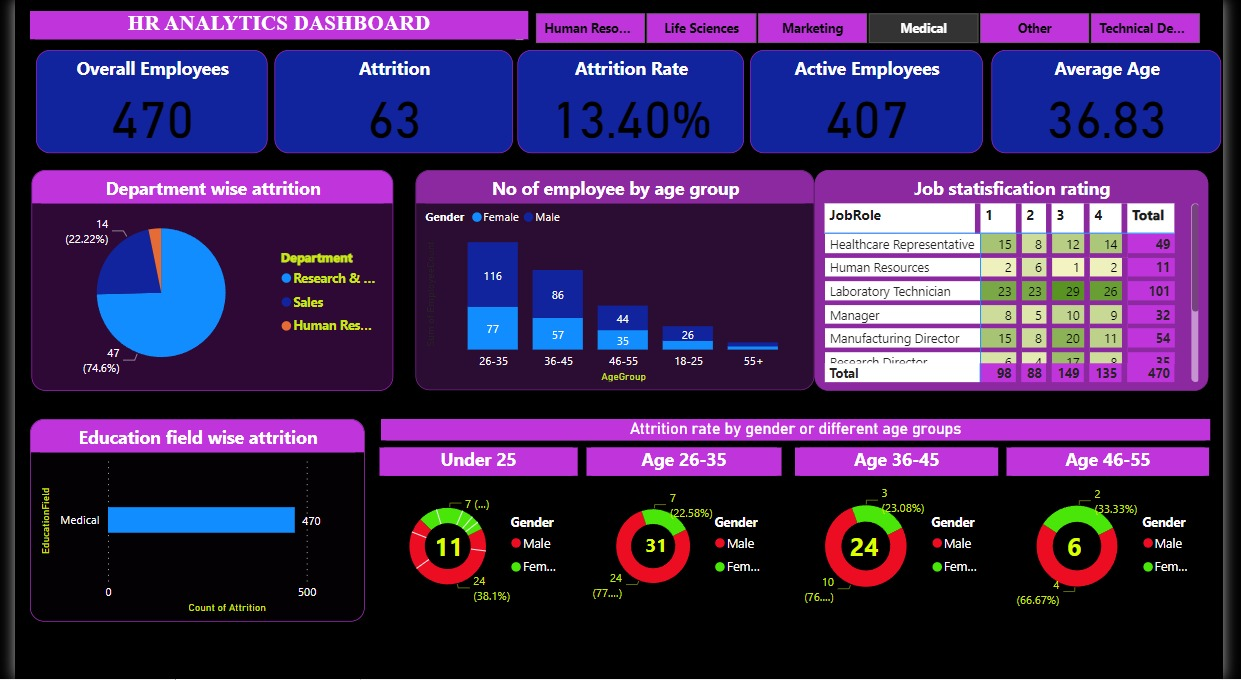

Layout of this report page (visuals, bound fields, positions):
{"tool":"powerbi","page":{"name":"HR_ANALYTICS","canvas":[1280,720],"ordinal":0},"visuals":[{"type":"card","title":"Overall Employees","fields":{"Values":["Sum(HR_Analytics.EmployeeCount)"]},"box":[21.6,53.6,245.4,109.3],"z":0},{"type":"card","title":"Attrition","fields":{"Values":["Sum(HR_Analytics.Attrition count)"]},"box":[274.2,53.6,252.6,109.3],"z":1000},{"type":"card","title":"Attrition Rate","fields":{"Values":["HR_Analytics.attrition rate"]},"box":[532,53.6,240.2,109.3],"z":2000},{"type":"card","title":"Active Employees","fields":{"Values":["HR_Analytics.Active employees"]},"box":[779.4,53.6,246.4,109.3],"z":3000},{"type":"card","title":"Average Age","fields":{"Values":["Avg(HR_Analytics.Age)"]},"box":[1034,53.6,243.3,109.3],"z":4000},{"type":"pieChart","title":"Department wise attrition","fields":{"Category":["HR_Analytics.Department"],"Y":["Sum(HR_Analytics.Attrition count)"]},"box":[17.5,180.4,383.5,234],"z":5000},{"type":"columnChart","title":"No of employee by age group","fields":{"Category":["HR_Analytics.AgeGroup"],"Y":["Sum(HR_Analytics.EmployeeCount)"],"Series":["HR_Analytics.Gender"]},"box":[424.4,181.2,422.8,233.6],"z":6000},{"type":"pivotTable","title":"Job statisfication rating","fields":{"Rows":["HR_Analytics.JobRole"],"Columns":["HR_Analytics.JobSatisfaction"],"Values":["Sum(HR_Analytics.EmployeeCount)"]},"box":[847.4,180.4,417.5,234],"z":7000},{"type":"barChart","title":"Education field wise attrition","fields":{"Category":["HR_Analytics.EducationField"],"Y":["CountNonNull(HR_Analytics.Attrition)"]},"box":[15.5,444.3,354.6,214.4],"z":8000},{"type":"donutChart","title":"Under 25","fields":{"Category":["HR_Analytics.Gender"],"Y":["Sum(HR_Analytics.Attrition count)"],"Series":["HR_Analytics.AgeGroup"]},"box":[386.9,475.4,209.8,183.6],"z":9000},{"type":"textbox","title":"Attrition rate by gender or different age groups","box":[387.6,444.3,878.4,22.7],"z":10000},{"type":"donutChart","title":"Age 26-35","fields":{"Category":["HR_Analytics.Gender"],"Y":["Sum(HR_Analytics.Attrition count)"],"Series":["HR_Analytics.AgeGroup"]},"box":[604.9,475.4,206.6,183.6],"z":11000},{"type":"donutChart","title":"Age 36-45","fields":{"Category":["HR_Analytics.Gender"],"Y":["Sum(HR_Analytics.Attrition count)"],"Series":["HR_Analytics.AgeGroup"]},"box":[825.8,475.3,215.5,183.5],"z":12000},{"type":"donutChart","title":"Age 46-55","fields":{"Category":["HR_Analytics.Gender"],"Y":["Sum(HR_Analytics.Attrition count)"],"Series":["HR_Analytics.AgeGroup"]},"box":[1050.8,475.4,214.8,183.6],"z":13000},{"type":"card","fields":{"Values":["Sum(HR_Analytics.Attrition count)"]},"box":[435.1,557.7,47.4,44.3],"z":14000},{"type":"card","fields":{"Values":["Sum(HR_Analytics.Attrition count)"]},"box":[650.5,562.9,57.7,34],"z":15000},{"type":"card","fields":{"Values":["Sum(HR_Analytics.Attrition count)"]},"box":[876.3,557.7,47.4,44.3],"z":16000},{"type":"card","fields":{"Values":["Sum(HR_Analytics.Attrition count)"]},"box":[1097.9,557.7,47.4,44.3],"z":17000},{"type":"textbox","title":"HR ANALYTICS DASHBOARD","box":[15.9,12.7,527.7,35],"z":18000},{"type":"slicer","fields":{"Values":["HR_Analytics.EducationField"]},"box":[526.8,8.2,753.6,45.4],"z":19000}]}

Visuals, with their boxes in screenshot pixels (x1, y1, x2, y2), scaled from the page's 1280x720 canvas onto the 1241x680 screenshot:
"Overall Employees" card: 21,51,259,154
"Attrition" card: 266,51,511,154
"Attrition Rate" card: 516,51,749,154
"Active Employees" card: 756,51,995,154
"Average Age" card: 1002,51,1238,154
"Department wise attrition" pieChart: 17,170,389,391
"No of employee by age group" columnChart: 411,171,821,392
"Job statisfication rating" pivotTable: 822,170,1226,391
"Education field wise attrition" barChart: 15,420,359,622
"Under 25" donutChart: 375,449,579,622
"Attrition rate by gender or different age groups" textbox: 376,420,1227,441
"Age 26-35" donutChart: 586,449,787,622
"Age 36-45" donutChart: 801,449,1010,622
"Age 46-55" donutChart: 1019,449,1227,622
card - Sum(HR_Analytics.Attrition count): 422,527,468,569
card - Sum(HR_Analytics.Attrition count): 631,532,687,564
card - Sum(HR_Analytics.Attrition count): 850,527,896,569
card - Sum(HR_Analytics.Attrition count): 1064,527,1110,569
"HR ANALYTICS DASHBOARD" textbox: 15,12,527,45
slicer - HR_Analytics.EducationField: 511,8,1240,51
